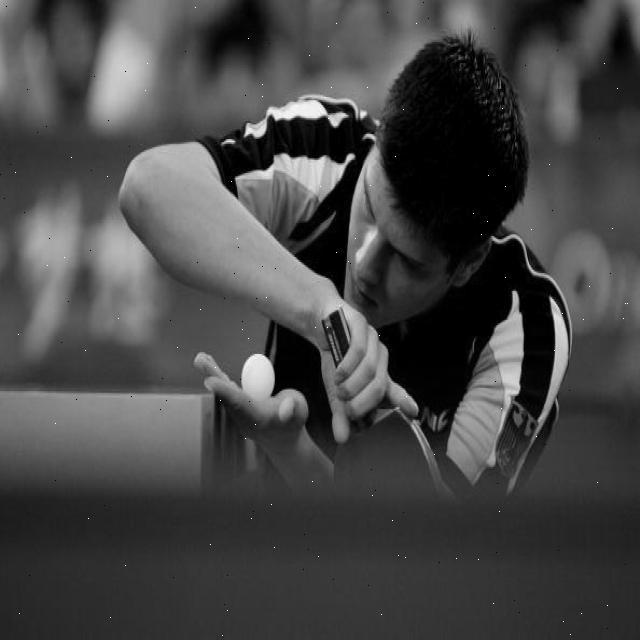ping-pong-ball: (240, 352, 276, 405)
